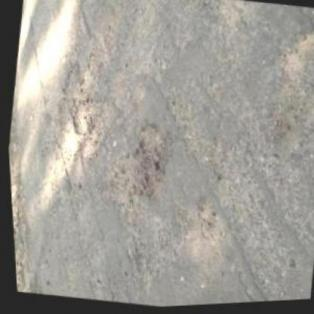Hueco: (122, 119, 176, 206), (63, 94, 113, 164), (187, 194, 219, 242)
